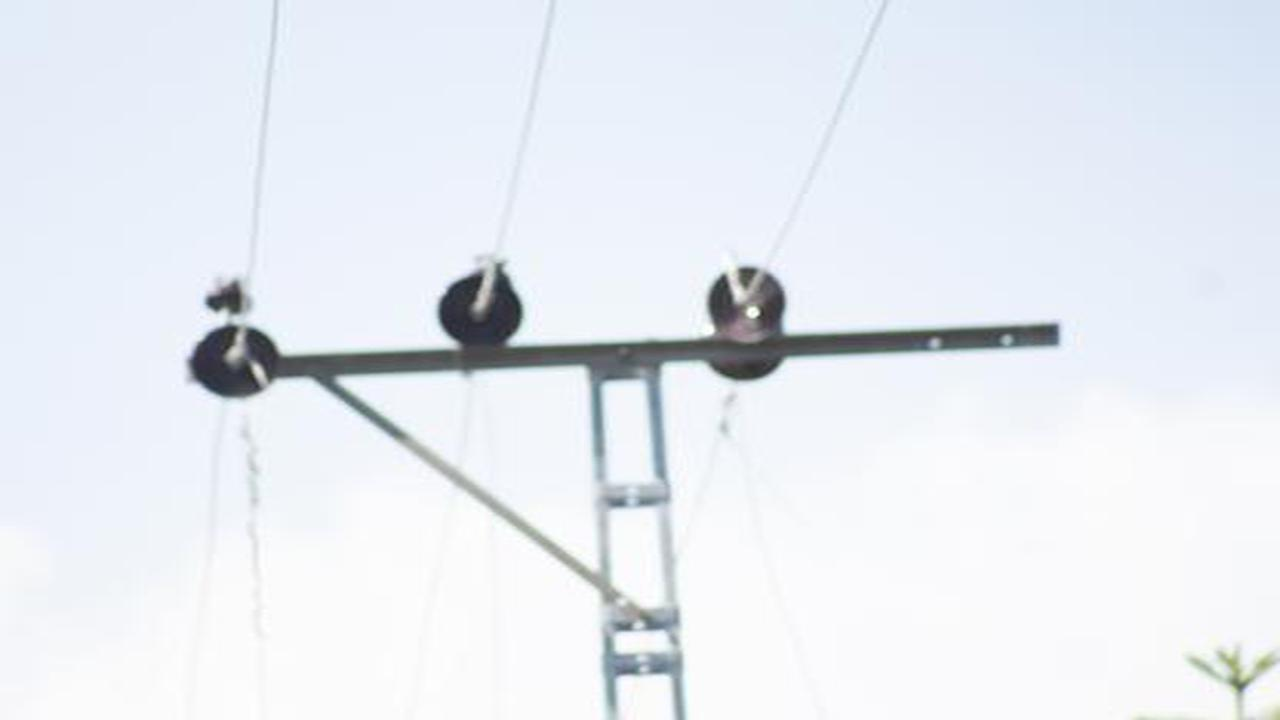insulator_disc: (433, 264, 533, 353), (188, 323, 286, 403), (701, 263, 795, 340)
